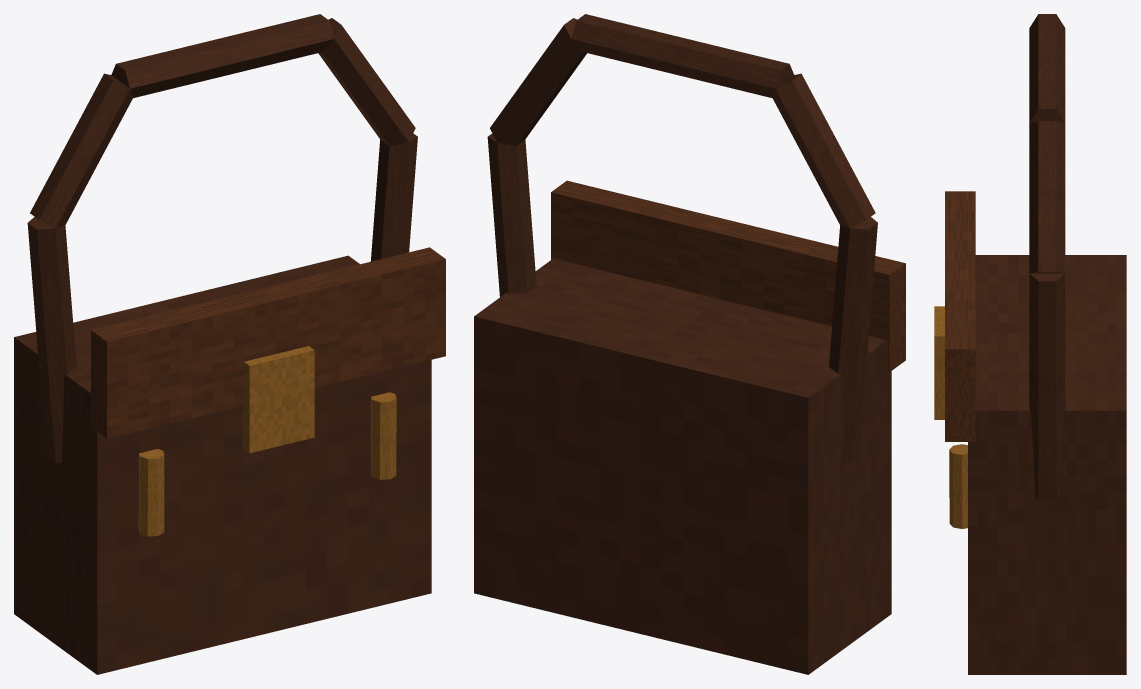
The model's file is SM_medicine_satchel.gltf.
3 renders of one model, left to right at view 1: azimuth 30°, elevation 25°; view 2: azimuth 150°, elevation 25°; view 3: azimuth 270°, elevation 25°, orthographic. The views are drawn at different scales.
Parts seen in each view (by area): view 1: root; view 2: root; view 3: root.
Part boxes in pixels (x1,y1,x2,y2): root: (14, 14, 445, 674); root: (474, 14, 905, 674); root: (934, 14, 1126, 674).
Size of the model in its own units: 0.8204 by 1.16 by 0.376.
Materials: 3 (3 with a texture image).
